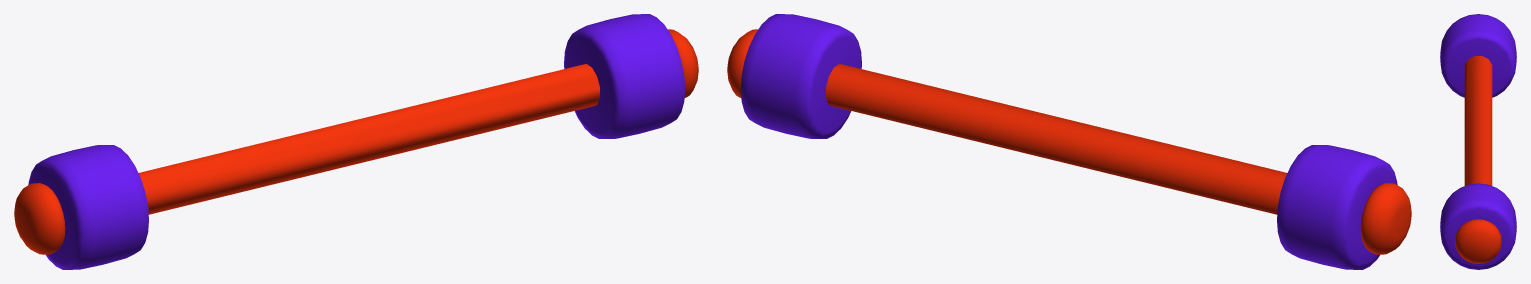
The model's file is Seesaw_Base.glb.
The picture shows the model from 3 angles, left to right: view 1: azimuth 30°, elevation 25°; view 2: azimuth 150°, elevation 25°; view 3: azimuth 270°, elevation 25°; orthographic projection. The views are drawn at different scales.
Parts seen in each view (by area): view 1: Seesaw_Base; view 2: Seesaw_Base; view 3: Seesaw_Base.
Part boxes in pixels (x1,y1,x2,y2): Seesaw_Base: [14, 14, 698, 269]; Seesaw_Base: [727, 14, 1411, 269]; Seesaw_Base: [1440, 14, 1516, 269].
Bounding box in the file's own units: 4.69 × 0.7276 × 0.7276.
